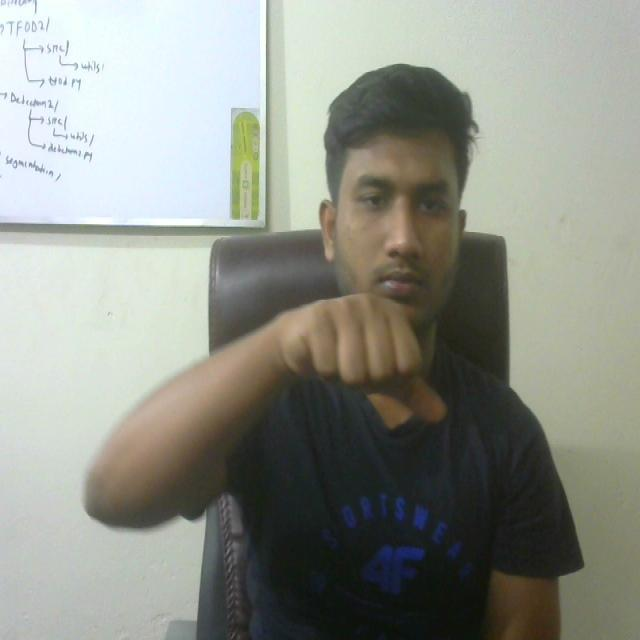Yes: (266, 287, 449, 439)
